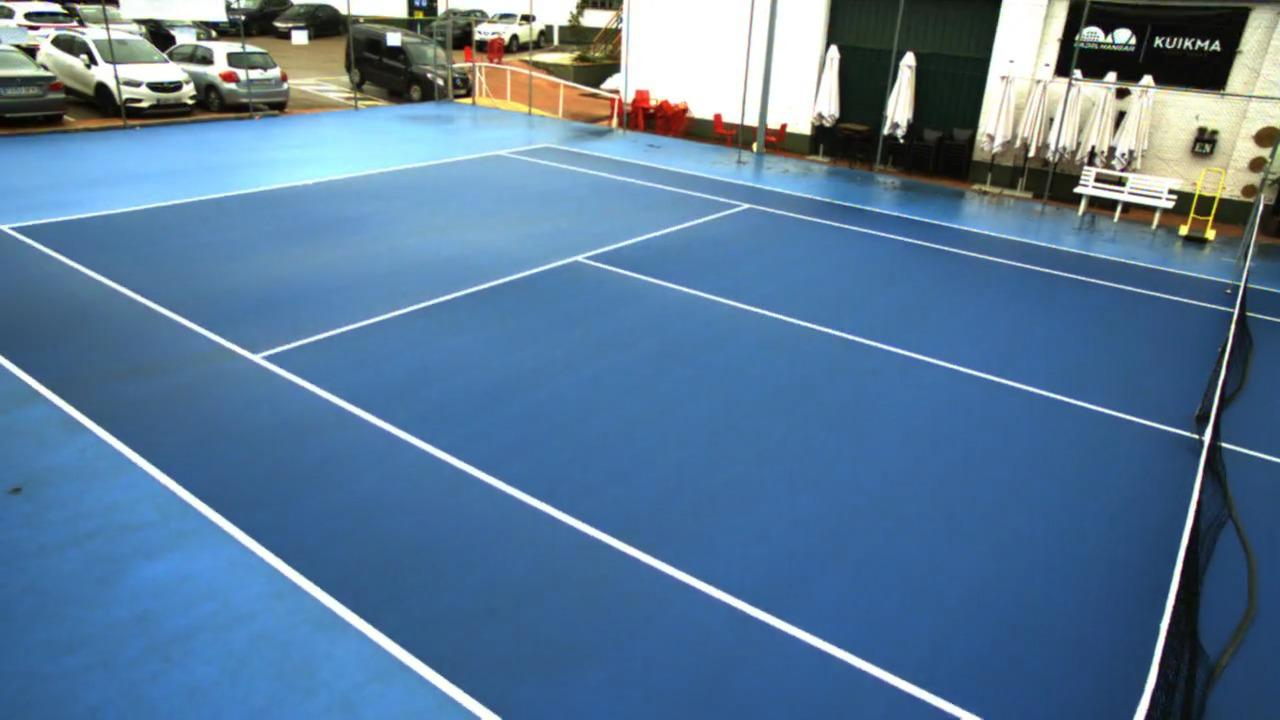cancha_tenis: (0, 152, 1280, 720)
point_f1: (0, 210, 19, 241)
point_f2: (486, 139, 520, 164)
point_fc1: (299, 171, 319, 192)
point_i1: (238, 344, 276, 372)
point_i2: (726, 194, 764, 217)
point_ic1: (562, 242, 601, 270)
